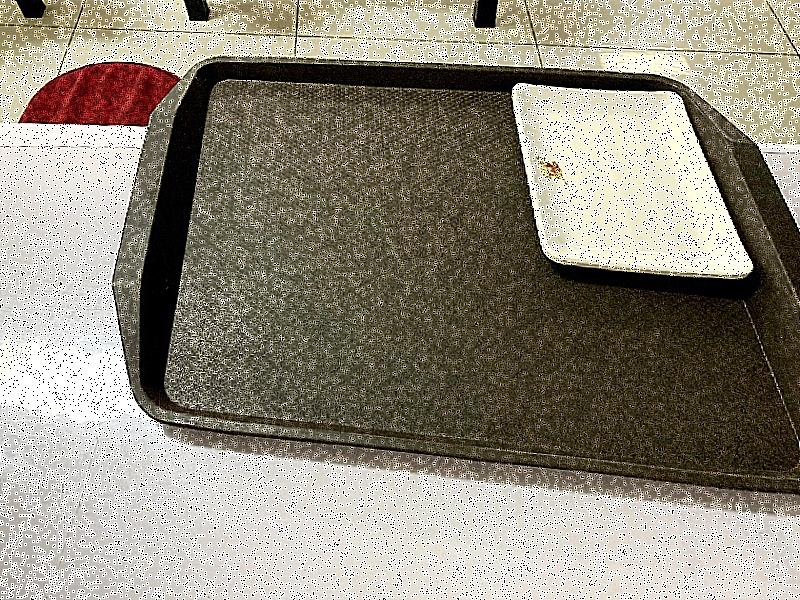dish4: (505, 74, 761, 293)
